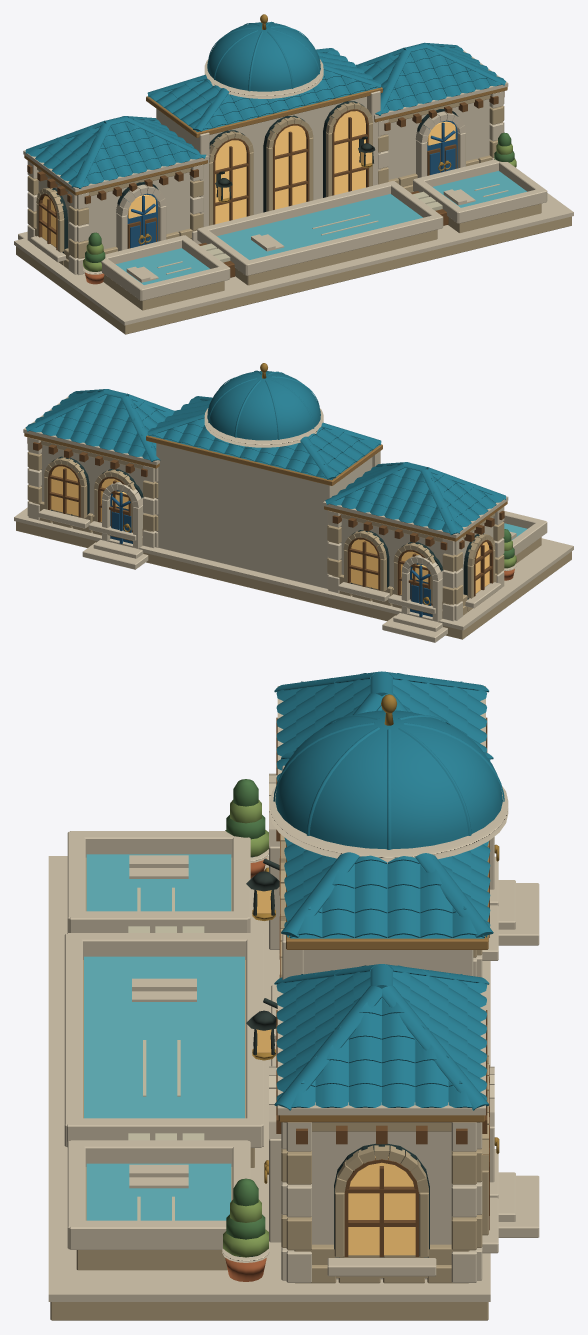
The picture shows the model from 3 angles, top to bottom: view 1: azimuth 30°, elevation 25°; view 2: azimuth 150°, elevation 25°; view 3: azimuth 270°, elevation 25°; orthographic projection. The views are drawn at different scales.
Visible parts, largest first — view 1: harbor_onsen_2_geometry, harbor_onsen_2_geometry ceramic; view 2: harbor_onsen_2_geometry, harbor_onsen_2_geometry ceramic; view 3: harbor_onsen_2_geometry, harbor_onsen_2_geometry ceramic.
Part boxes in pixels (x1,y1,x2,y2): harbor_onsen_2_geometry: (14,14,573,334); harbor_onsen_2_geometry ceramic: (25,21,505,188); harbor_onsen_2_geometry: (14,363,573,642); harbor_onsen_2_geometry ceramic: (25,370,506,534); harbor_onsen_2_geometry: (48,686,539,1320); harbor_onsen_2_geometry ceramic: (273,671,504,1110).
Bounding box in the file's own units: 2.16 × 0.9353 × 1.02.
